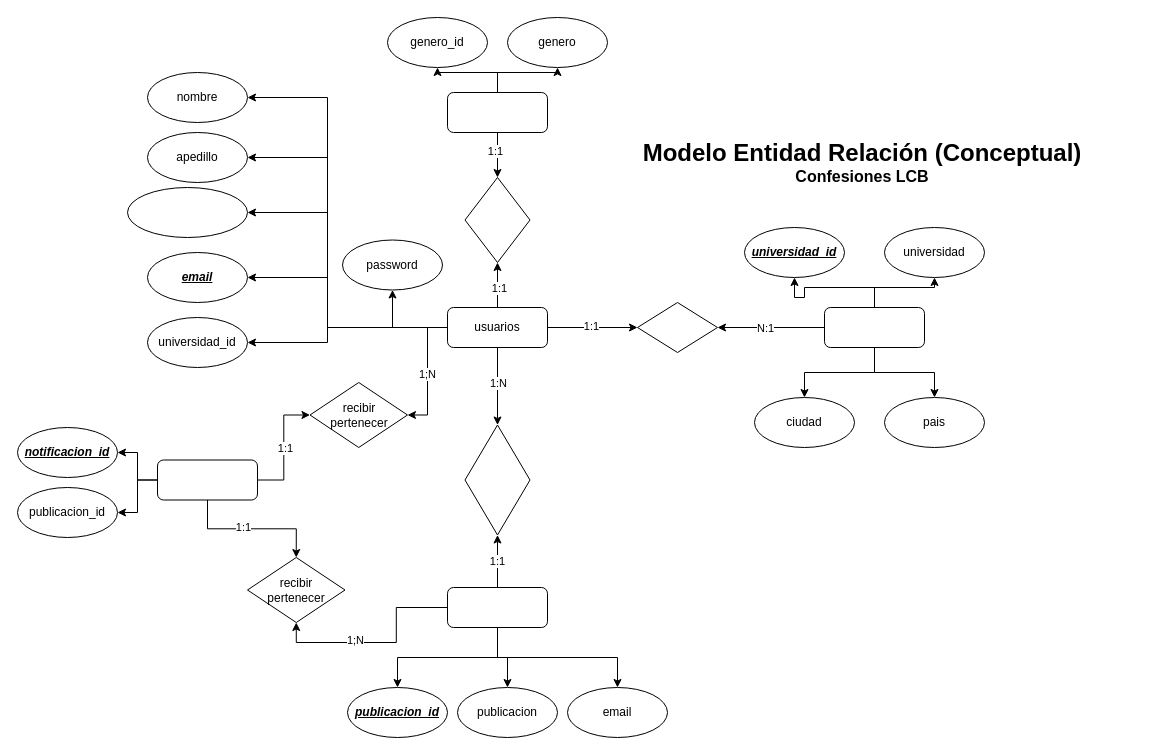
Image size: 1155x755. Some labels were removed from this diagram. The shapes that lost their labels are listed below. From the top down, each one's box as (x1, y1, x2, y2) in pixels, then its label:
(446, 92, 548, 132): generos
(126, 186, 248, 238): fecha_nacimiento
(464, 176, 530, 262): tener
(636, 302, 718, 352): pertenecer
(824, 306, 924, 348): universidades
(156, 459, 258, 500): notificacion
(464, 424, 530, 535): hacer | pertenecer
(446, 586, 548, 628): publicaciones
